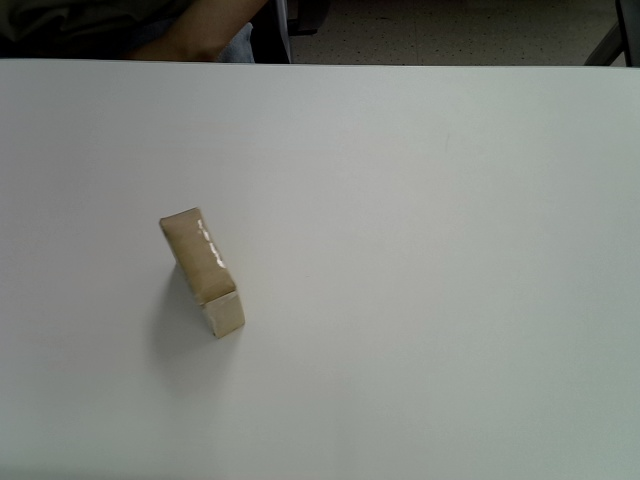normal: (159, 207, 247, 339)
